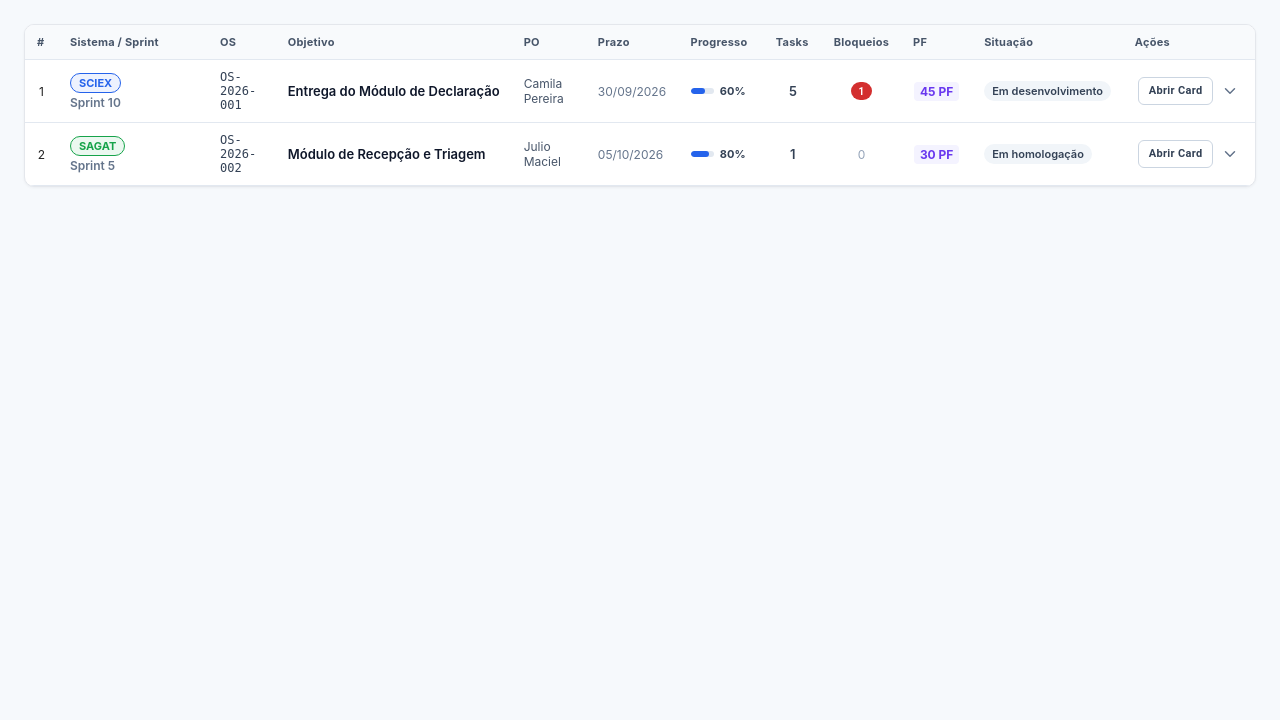
Test: SprintListView - Modo Lista Refatorado › 2. Clicar na linha expande o Kanban correto imediatamente abaixo dela
Expected: the text "Tasks da Sprint 10" is not shown
Expected: the text "Entrega do Módulo de Declaração" is shown, 288,83 -> 500,99
Click the text "Entrega do Módulo de Declaração".
click(640, 91)  # box 25,60 -> 1255,122
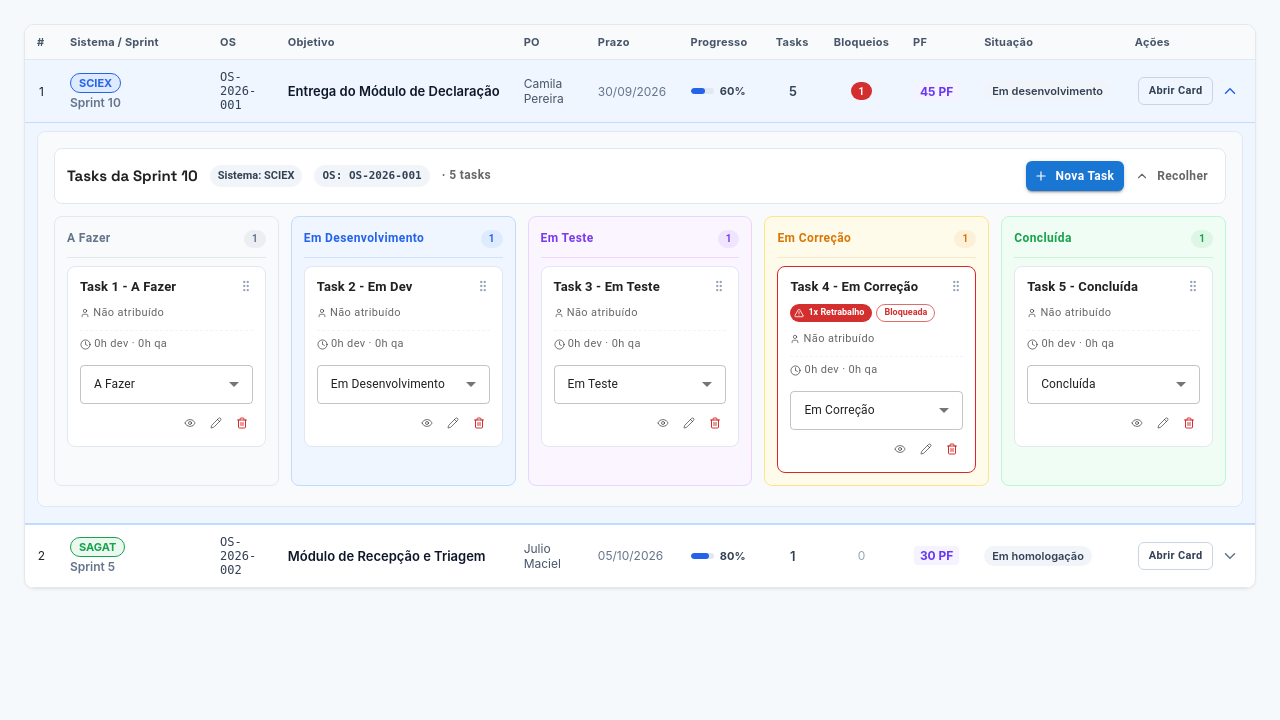
Result: the heading "Tasks da Sprint 10" is shown at 67,167 -> 198,185
Result: the text "Task 1 - A Fazer" is shown at 80,279 -> 176,296
Result: the text "Task 2 - Em Dev" is shown at 317,279 -> 412,296
